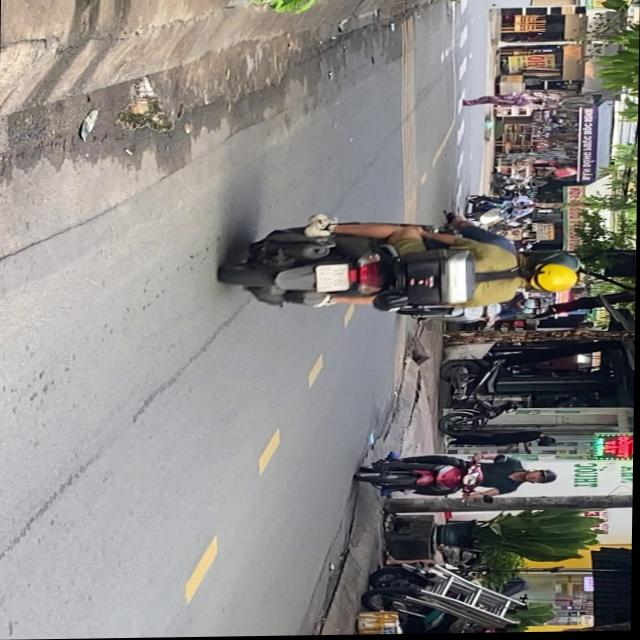helmet: (525, 266, 579, 296), (524, 470, 560, 487)
licenseplate: (222, 211, 585, 322), (358, 451, 562, 503)
nohelmet: (317, 266, 349, 293)
